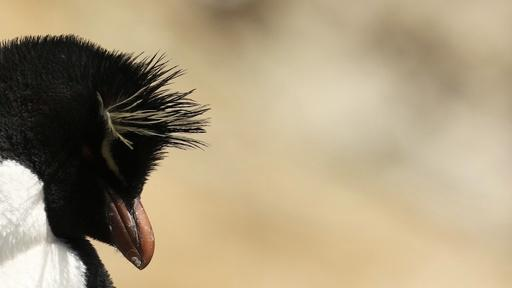Southern Rockhopper Penguin: (0, 14, 231, 288)
